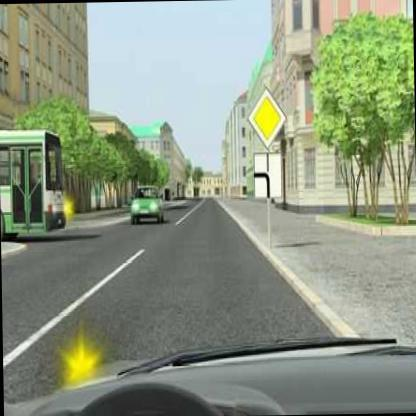road_sign: (247, 85, 285, 150), (254, 152, 283, 197)
